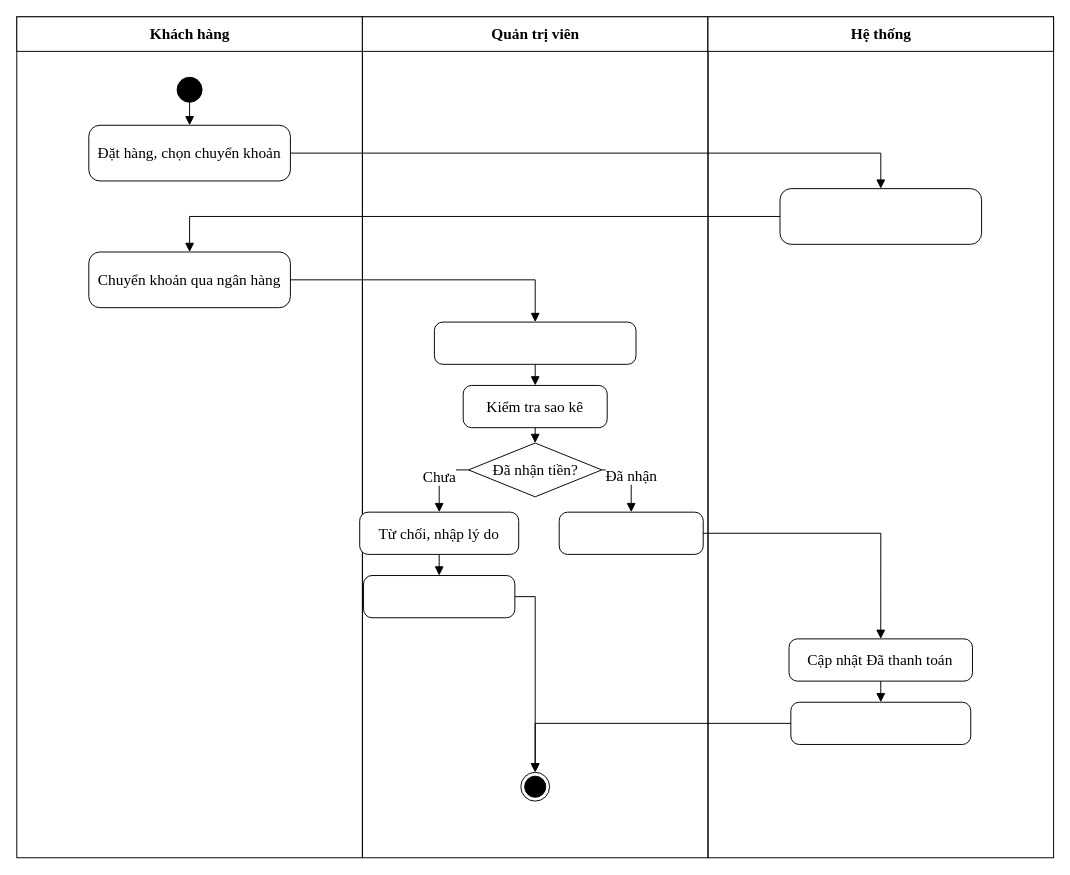
Some shapes in this 1070 by 875 pixel diagram are drawn without their labels. The box of each missing label's shape, as (x1, y1, x2, y2) in pixels:
Gửi email, tạo vận đơn: (790, 701, 971, 744)
Hiển thị STK, nội dung DH mã đơn: (779, 188, 982, 244)
Mở đơn chờ chuyển khoản: (433, 321, 636, 364)
Thông báo từ chối: (363, 575, 515, 618)
Xác nhận: (558, 511, 703, 554)
